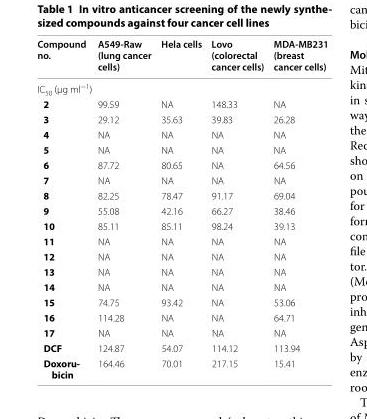table: (36, 36, 327, 380)
table column: (91, 36, 155, 380), (205, 36, 268, 380), (268, 36, 327, 380), (36, 36, 91, 380), (155, 36, 205, 380)
table column header: (36, 36, 327, 76)
table projected row header: (36, 76, 327, 96)
table row: (36, 36, 327, 76), (36, 354, 327, 380), (36, 76, 327, 96), (36, 171, 327, 187), (36, 232, 327, 248), (36, 293, 327, 309), (36, 96, 327, 111), (36, 111, 327, 126), (36, 126, 327, 141), (36, 141, 327, 156), (36, 156, 327, 171), (36, 187, 327, 202), (36, 202, 327, 217), (36, 217, 327, 232), (36, 248, 327, 263), (36, 263, 327, 278), (36, 278, 327, 293), (36, 309, 327, 324), (36, 324, 327, 339), (36, 339, 327, 354)
